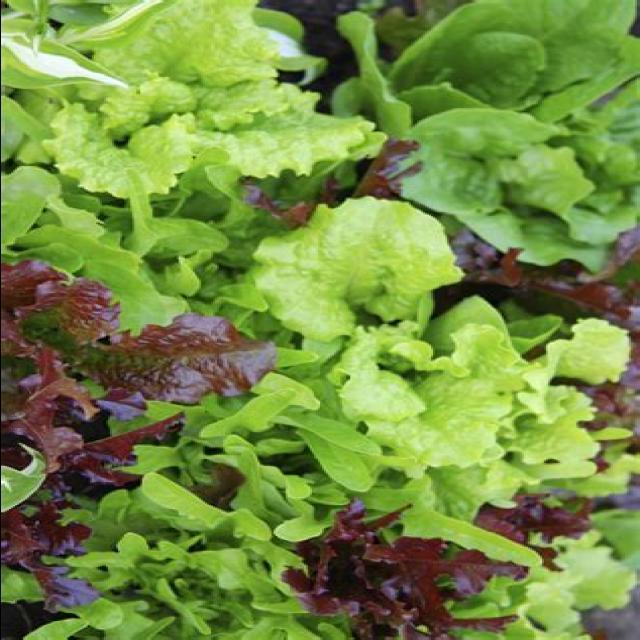Healthy: (13, 14, 369, 234), (389, 6, 634, 263), (279, 309, 584, 492)
